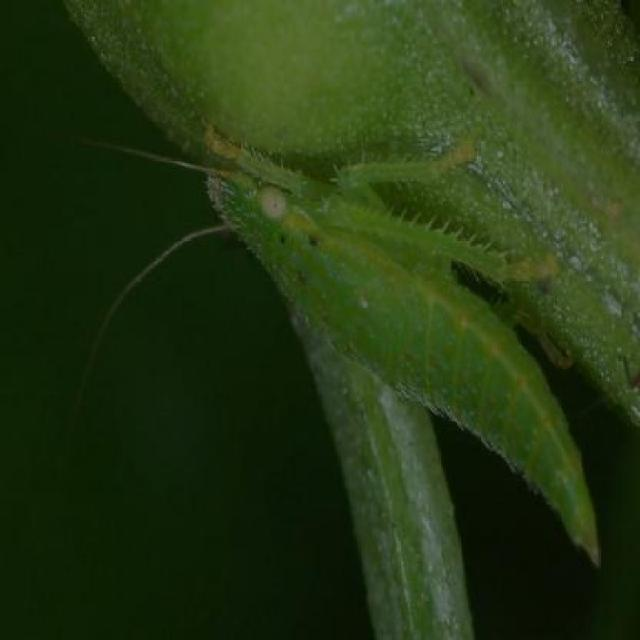green-leafhopper: (196, 134, 593, 572)
